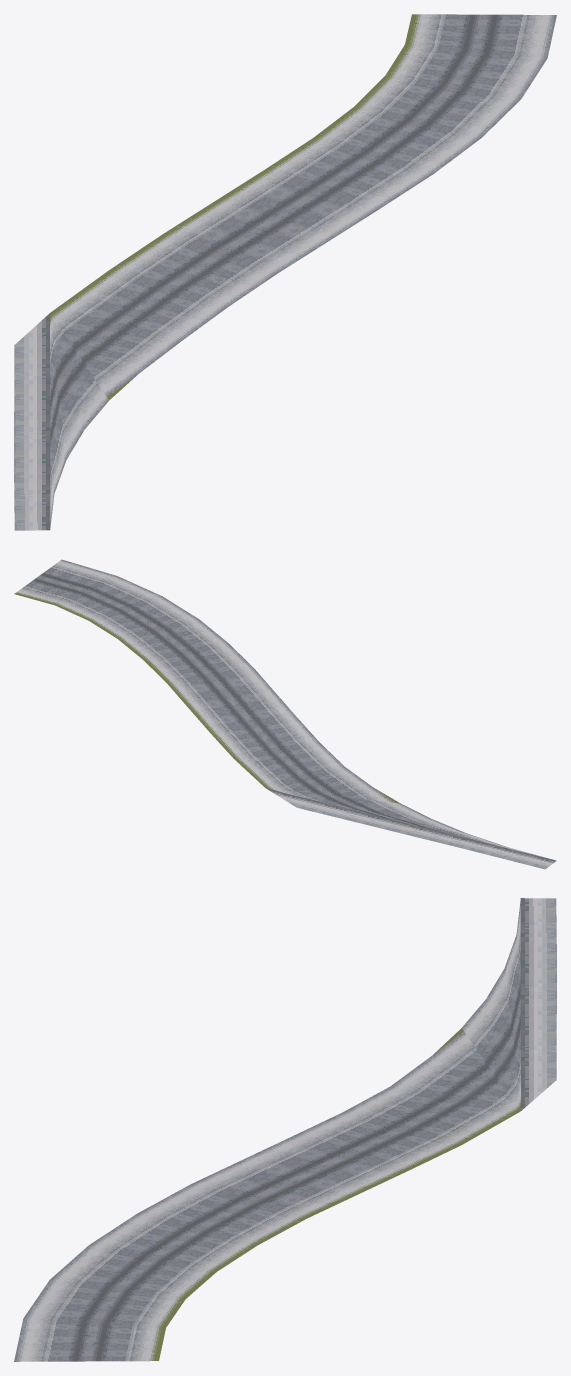
File: lodaseroad070.obj
3 renders of one model, top to bottom at view 1: azimuth 90°, elevation 25°; view 2: azimuth 150°, elevation 25°; view 3: azimuth 270°, elevation 25°, orthographic. The views are drawn at different scales.
Visible parts, largest first — view 1: lodasEroad070; view 2: lodasEroad070; view 3: lodasEroad070.
Part boxes in pixels (box(x1,y1,x2,y2)): lodasEroad070: box(14, 14, 556, 530); lodasEroad070: box(14, 559, 556, 869); lodasEroad070: box(14, 898, 556, 1361).
Size of the model in its own units: 160 by 4.34 by 75.
2 materials, 2 textured.
